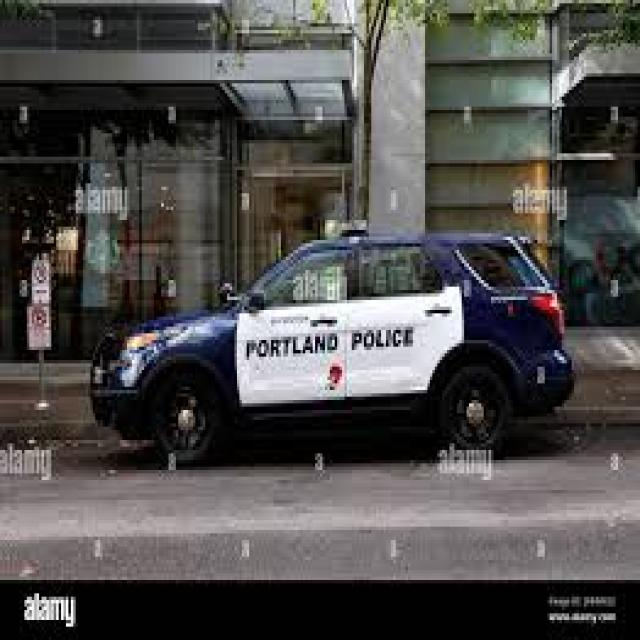cop: (84, 224, 576, 466)
